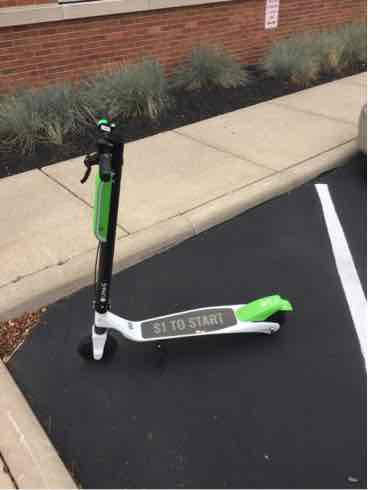scooter: (67, 100, 292, 372)
